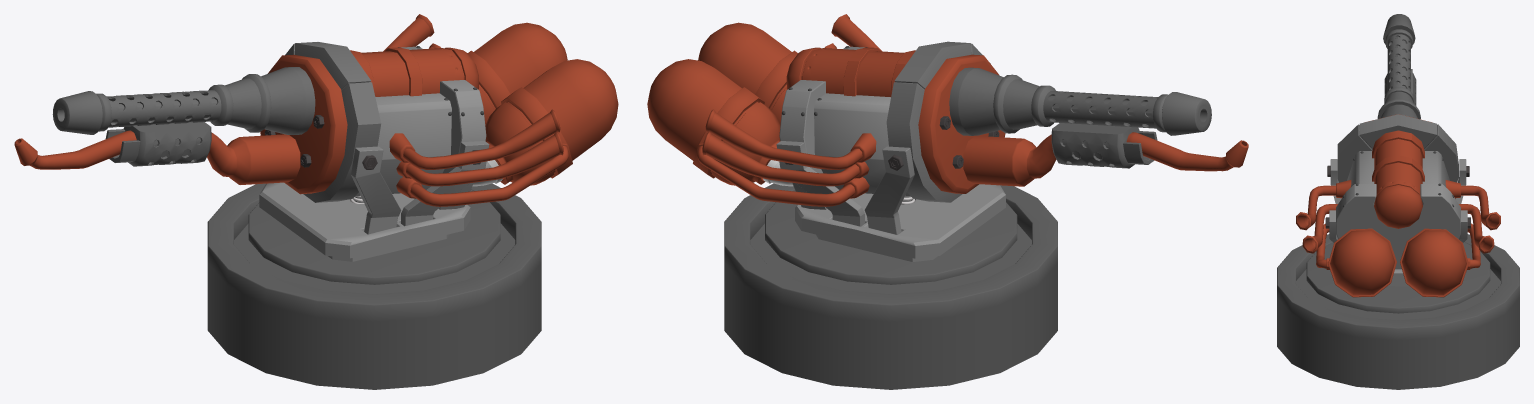
The model's file is turret_flame.glb.
The picture shows the model from 3 angles, left to right: view 1: azimuth 30°, elevation 25°; view 2: azimuth 150°, elevation 25°; view 3: azimuth 270°, elevation 25°; orthographic projection. The views are drawn at different scales.
Visible parts, largest first — view 1: Cylinder019, Object028_14 - Default_0, Capsule002_02 - Default_0, Box001_06 - Default_0, Cylinder003_11 - Default_0, Cylinder008_16 - Default_0, Cylinder004_15 - Default_0, Capsule005_02 - Default_0, Object007_21 - Default_0, Capsule001_02 - Default_0, Cylinder009_14 - Default_0, Object004_02 - Default_0 (+6 smaller); view 2: Cylinder019, Object028_14 - Default_0, Capsule005_02 - Default_0, Box001_06 - Default_0, Cylinder003_11 - Default_0, Cylinder008_16 - Default_0, Cylinder004_15 - Default_0, Capsule002_02 - Default_0, Object007_21 - Default_0, Capsule001_02 - Default_0, Cylinder009_14 - Default_0, Object016_02 - Default_0 (+6 smaller); view 3: Cylinder019, Cylinder003_11 - Default_0, Capsule002_02 - Default_0, Capsule005_02 - Default_0, Capsule001_02 - Default_0, Cylinder004_15 - Default_0, Object028_14 - Default_0, Object004_02 - Default_0, Object016_02 - Default_0, Object003_02 - Default_0, Object017_02 - Default_0, Object015_19 - Default_0 (+6 smaller).
Part boxes in pixels (<box>): Cylinder019: <box>207,183,541,389</box>; Object028_14 - Default_0: <box>52,67,315,134</box>; Capsule002_02 - Default_0: <box>396,59,618,206</box>; Box001_06 - Default_0: <box>259,182,470,258</box>; Cylinder003_11 - Default_0: <box>356,46,486,209</box>; Cylinder008_16 - Default_0: <box>14,130,300,184</box>; Cylinder004_15 - Default_0: <box>285,42,381,202</box>; Capsule005_02 - Default_0: <box>467,22,567,124</box>; Object007_21 - Default_0: <box>260,54,347,194</box>; Capsule001_02 - Default_0: <box>361,47,478,96</box>; Cylinder009_14 - Default_0: <box>105,122,211,166</box>; Object004_02 - Default_0: <box>389,109,560,169</box>; Cylinder019: <box>724,183,1057,389</box>; Object028_14 - Default_0: <box>949,67,1211,135</box>; Capsule005_02 - Default_0: <box>647,59,869,206</box>; Box001_06 - Default_0: <box>795,184,1005,258</box>; Cylinder003_11 - Default_0: <box>779,46,909,209</box>; Cylinder008_16 - Default_0: <box>963,132,1248,186</box>; Cylinder004_15 - Default_0: <box>886,41,990,202</box>; Capsule002_02 - Default_0: <box>698,22,797,125</box>; Object007_21 - Default_0: <box>918,54,1005,193</box>; Capsule001_02 - Default_0: <box>786,47,904,96</box>; Cylinder009_14 - Default_0: <box>1051,123,1157,168</box>; Object016_02 - Default_0: <box>705,109,876,169</box>; Cylinder019: <box>1277,234,1519,389</box>; Cylinder003_11 - Default_0: <box>1336,151,1460,269</box>; Capsule002_02 - Default_0: <box>1316,223,1396,297</box>; Capsule005_02 - Default_0: <box>1400,223,1480,297</box>; Capsule001_02 - Default_0: <box>1374,139,1422,228</box>; Cylinder004_15 - Default_0: <box>1337,114,1458,182</box>; Object028_14 - Default_0: <box>1377,14,1420,119</box>; Object004_02 - Default_0: <box>1296,180,1351,230</box>; Object016_02 - Default_0: <box>1445,180,1500,230</box>; Object003_02 - Default_0: <box>1302,204,1337,253</box>; Object017_02 - Default_0: <box>1459,204,1494,253</box>; Object015_19 - Default_0: <box>1372,130,1424,158</box>.
Size of the model in its own units: 1633 by 806 by 827.
